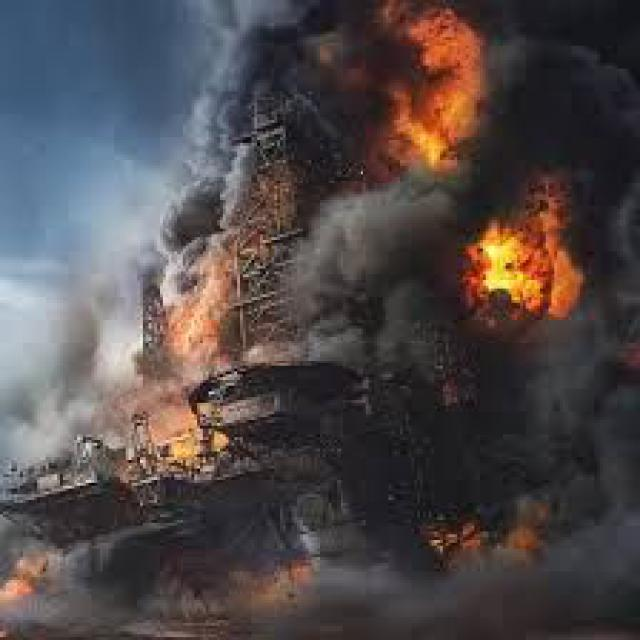fire: (357, 3, 500, 188), (454, 166, 592, 343)
